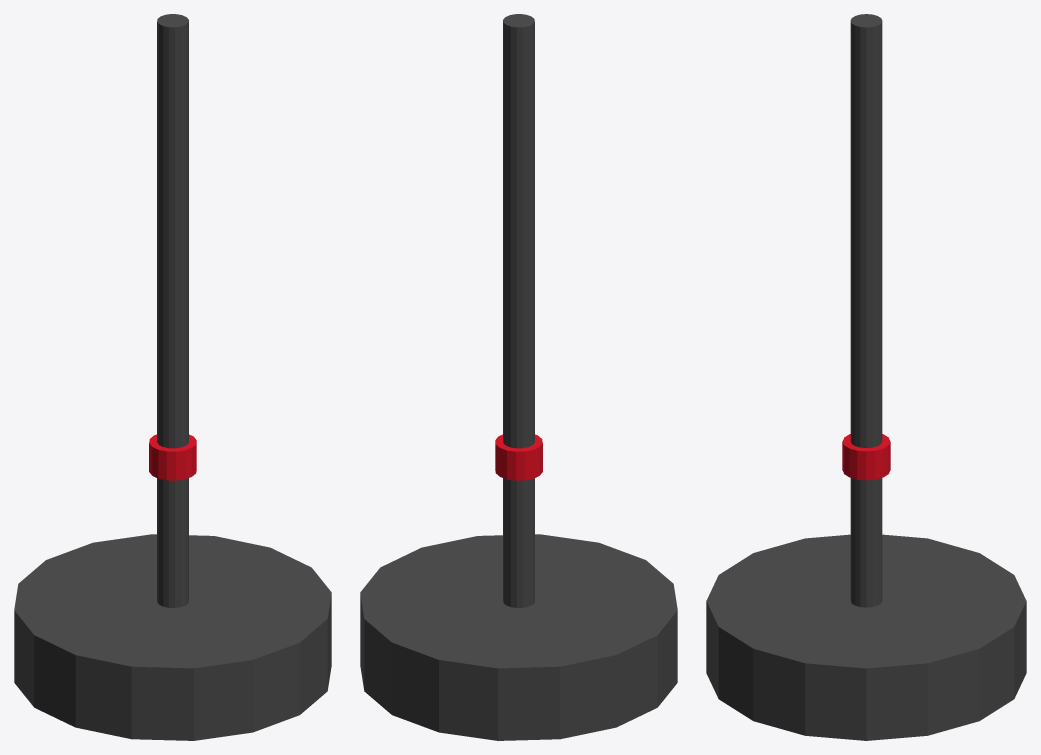
Rendered from flag_pole.glb.
3 renders of one model, left to right at view 1: azimuth 30°, elevation 25°; view 2: azimuth 150°, elevation 25°; view 3: azimuth 270°, elevation 25°, orthographic.
Parts seen in each view (by area): view 1: Mesh_1.002; view 2: Mesh_1.002; view 3: Mesh_1.002.
Boxes of the visible parts, x1,y1,x2,y2 form: Mesh_1.002: (14,14,331,740); Mesh_1.002: (360,14,677,740); Mesh_1.002: (706,14,1026,740).
Bounding box in the file's own units: 2 × 4.5 × 2.
